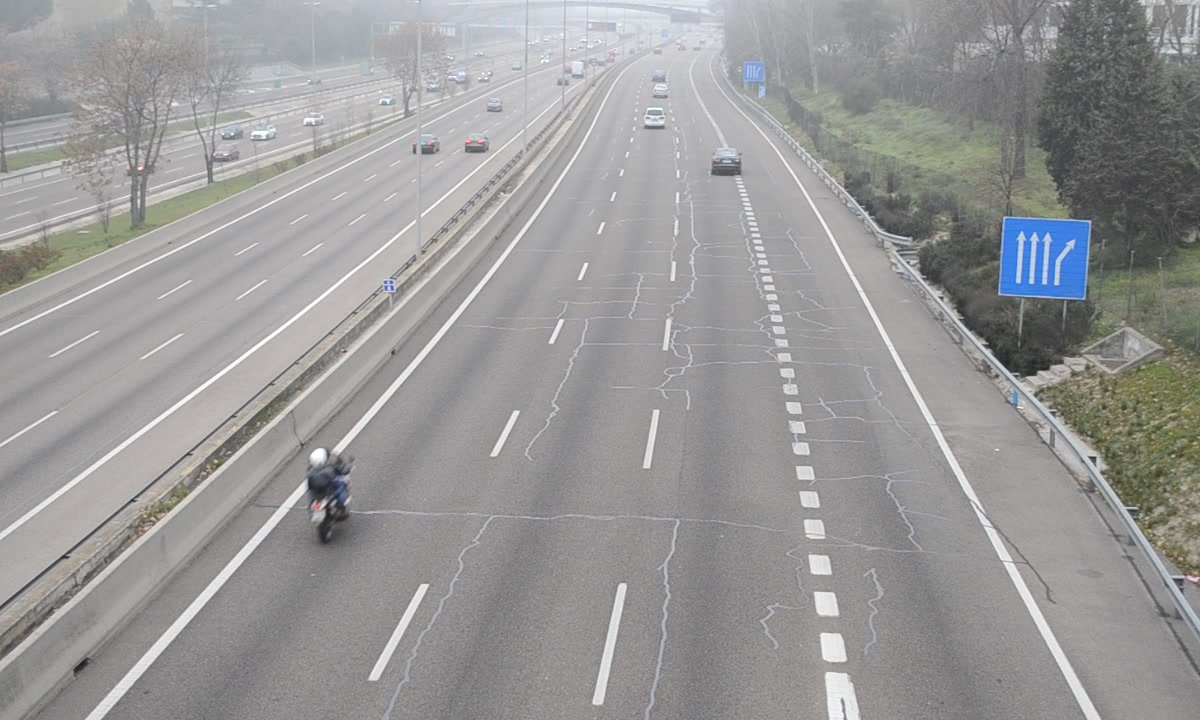car: (710, 146, 741, 175), (643, 108, 667, 131)
motorcycle: (304, 447, 352, 546)
